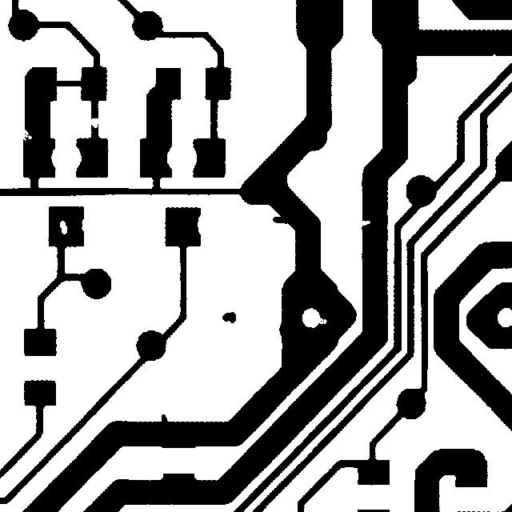copper: (214, 304, 243, 330)
mousebite: (13, 122, 39, 148), (350, 213, 378, 233), (309, 309, 334, 331)
open: (82, 110, 107, 135)
pin-hole: (52, 213, 74, 242)
short: (45, 73, 92, 94)
spur: (265, 207, 295, 231), (154, 406, 177, 433)
